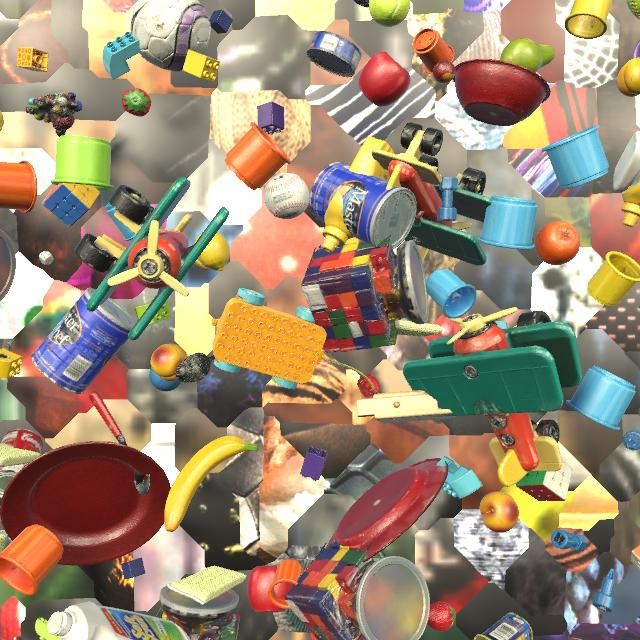ycb_002_master_chef_can: (31, 288, 136, 394), (309, 162, 417, 249)
ycb_003_cracker_box: (639, 202, 640, 207)
ycb_005_tomato_soup_can: (0, 428, 43, 498)
ycb_006_mustard_bottle: (322, 136, 394, 252), (621, 177, 640, 227)
ycb_007_tuna_fish_can: (307, 31, 361, 77)
ycb_008_pudding_box: (568, 634, 590, 640)
ycb_010_potted_meat_can: (474, 612, 533, 640)
ycb_011_banana: (164, 436, 259, 532)
ycb_012_strawberry: (427, 601, 456, 632), (122, 88, 151, 117)
ycb_013_apple: (358, 52, 410, 107), (247, 565, 293, 613)
ycb_014_lemon: (194, 232, 230, 271), (0, 111, 4, 131)
ycb_015_peach: (480, 491, 519, 533), (151, 344, 188, 381), (617, 57, 640, 97)
ycb_016_pear: (500, 38, 555, 73)
ycb_017_orange: (534, 221, 580, 265)
